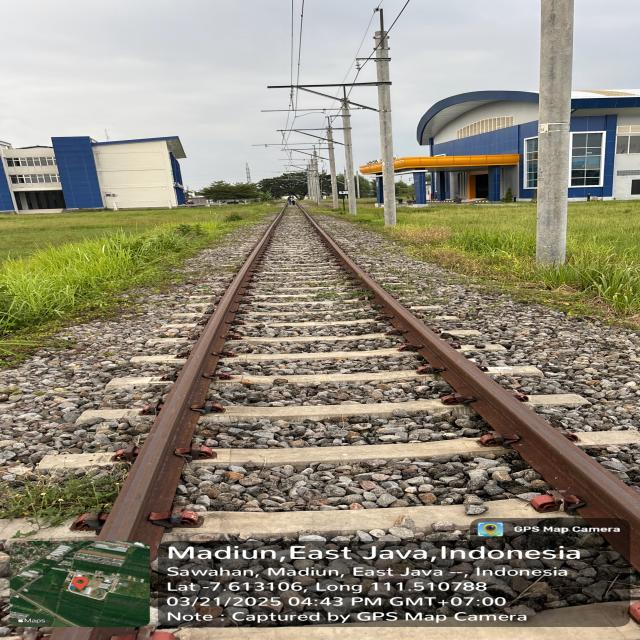rail-detection: (302, 210, 640, 529), (99, 215, 281, 561)
